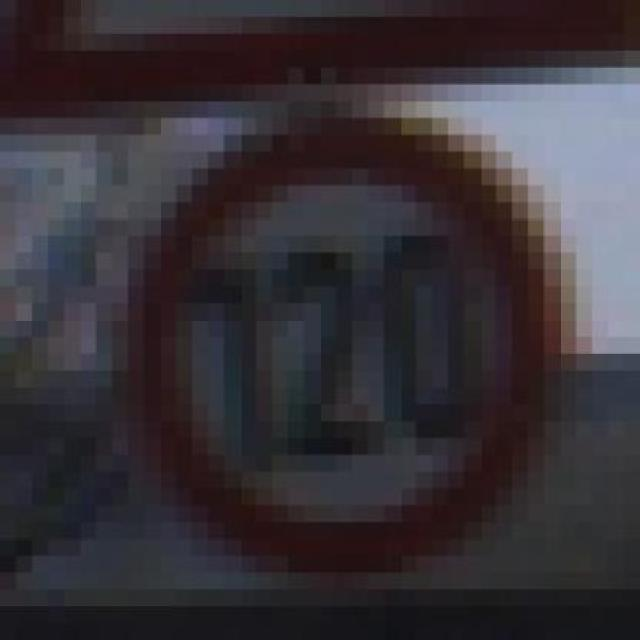forb_speed_over_120: (142, 118, 544, 560)
